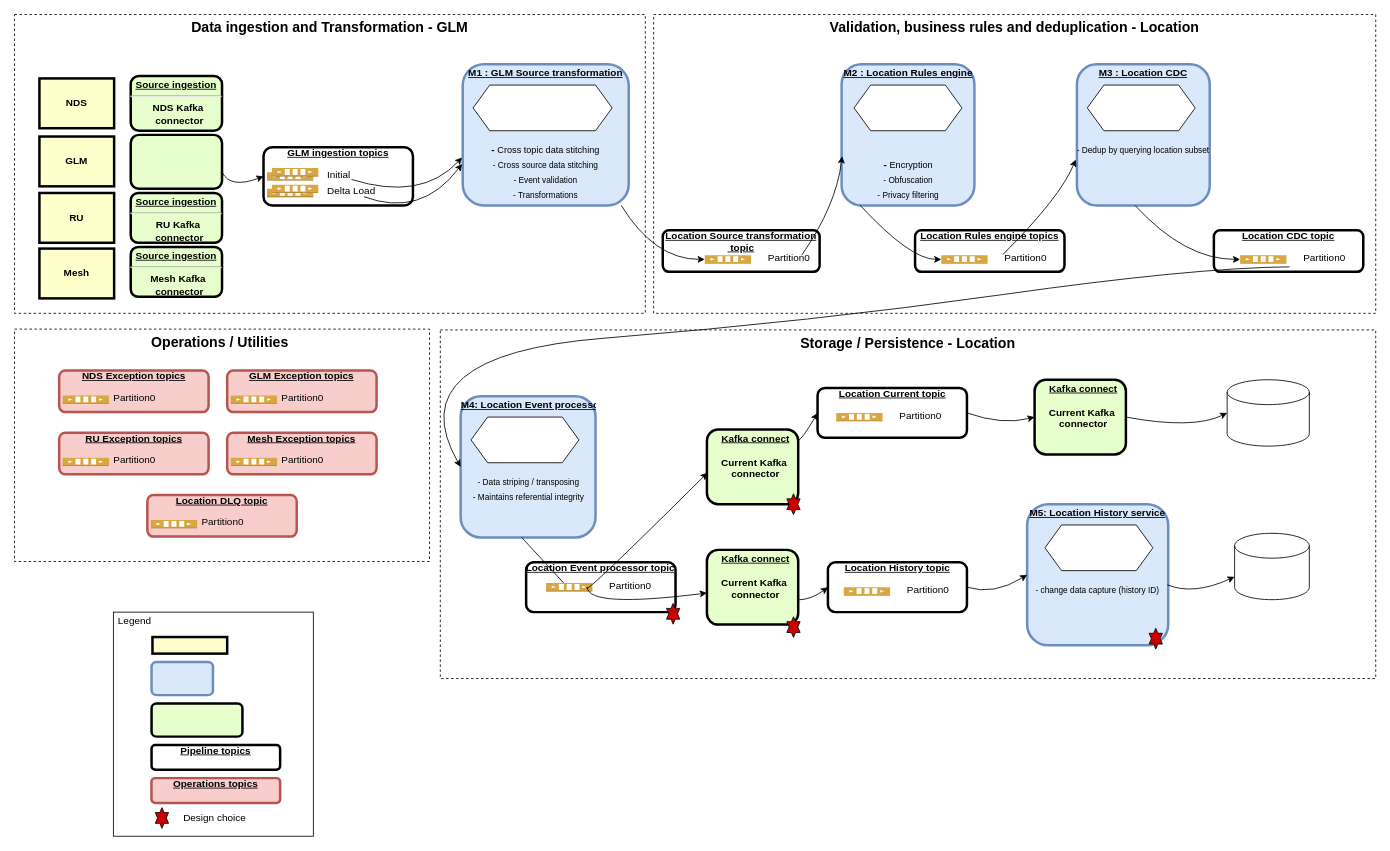
This 1390x851 diagram has some shape labels left out. Here are the shapes that lost their labels. From the top down, the centre of each, then its label:
point 542,107: data-market - place-glm-source -transformer
point 907,107: data-market-place- location- rules-engine
point 1140,107: data-market-place- location- cdc
point 176,161: Source ingestion GLM Kafka connector
point 1267,412: Location Current store
point 524,439: data-market-place- location- event-processsor
point 1098,547: data-market-place- location- history
point 1271,566: Location History store
point 189,644: Data sources
point 182,678: Service
point 196,719: Kafka connector
